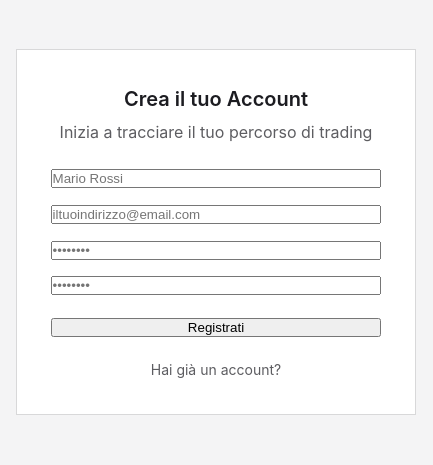
RegisterView.vue › should show an error message if passwords do not match
// Simula l'input con password non corrispondenti
Type "password123" into the 1st password field with placeholder "••••••••".
click(216, 250); type("password123")  # box [51,241,381,260]
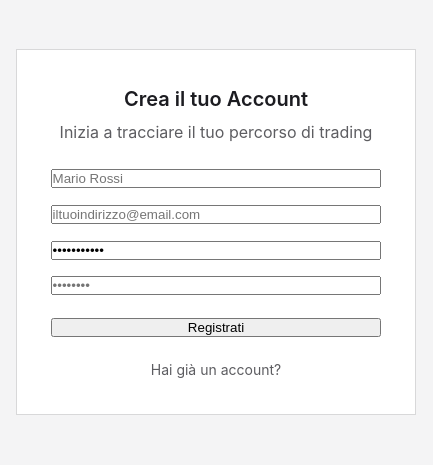
Type "password456" into the password field with placeholder "••••••••".
click(216, 286); type("password456")  # box [51,276,381,295]
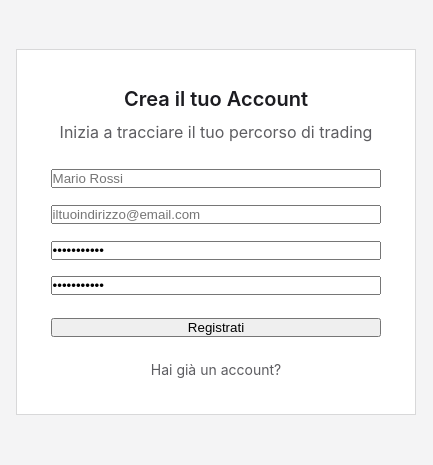
// Simula il submit del form
Submit the form, box [51,169,381,337]
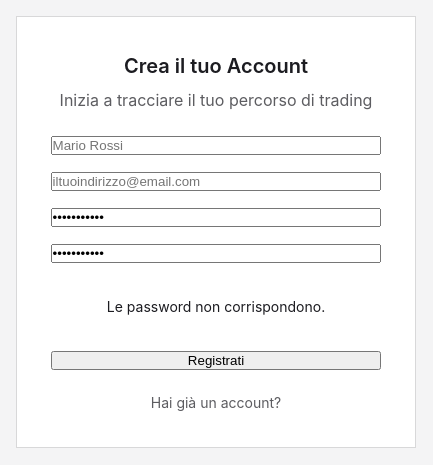
Now the text with class "error-message" reads "Le password non corrispondono.", box [107,298,325,315]
